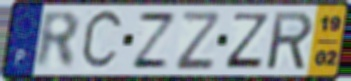C: (78, 7, 126, 75)
R: (266, 9, 315, 72), (34, 9, 82, 71)
Z: (129, 10, 180, 71), (174, 9, 221, 72), (223, 11, 272, 71)
